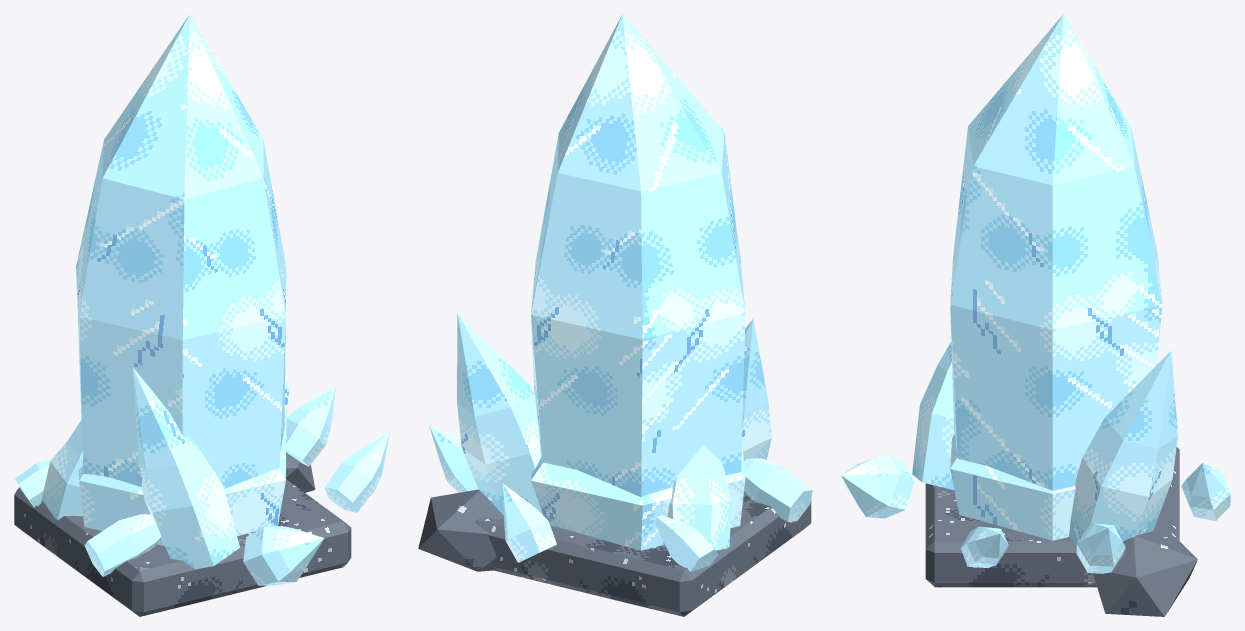
Rendered from frost_pillar.glb.
3 renders of one model, left to right at view 1: azimuth 30°, elevation 25°; view 2: azimuth 150°, elevation 25°; view 3: azimuth 270°, elevation 25°, orthographic.
Visible parts, largest first — view 1: Column, Stub, Base; view 2: Column, Base, Stub; view 3: Column, Base, Stub.
Part boxes in pixels (x1=…): Column: x1=42, y1=14, x2=289, y2=569; Stub: x1=15, y1=387, x2=389, y2=585; Base: x1=14, y1=452, x2=351, y2=616; Column: x1=457, y1=14, x2=771, y2=550; Base: x1=418, y1=489, x2=811, y2=616; Stub: x1=429, y1=425, x2=812, y2=571; Column: x1=912, y1=14, x2=1177, y2=546; Base: x1=925, y1=447, x2=1197, y2=616; Stub: x1=841, y1=435, x2=1230, y2=573.
Size of the model in its own units: 2.82 by 4.6 by 3.07.
2 materials, 2 textured.
